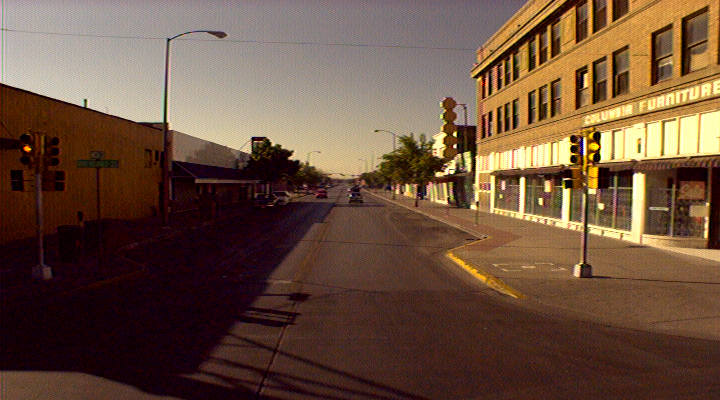Ramp: (473, 274, 720, 346)
